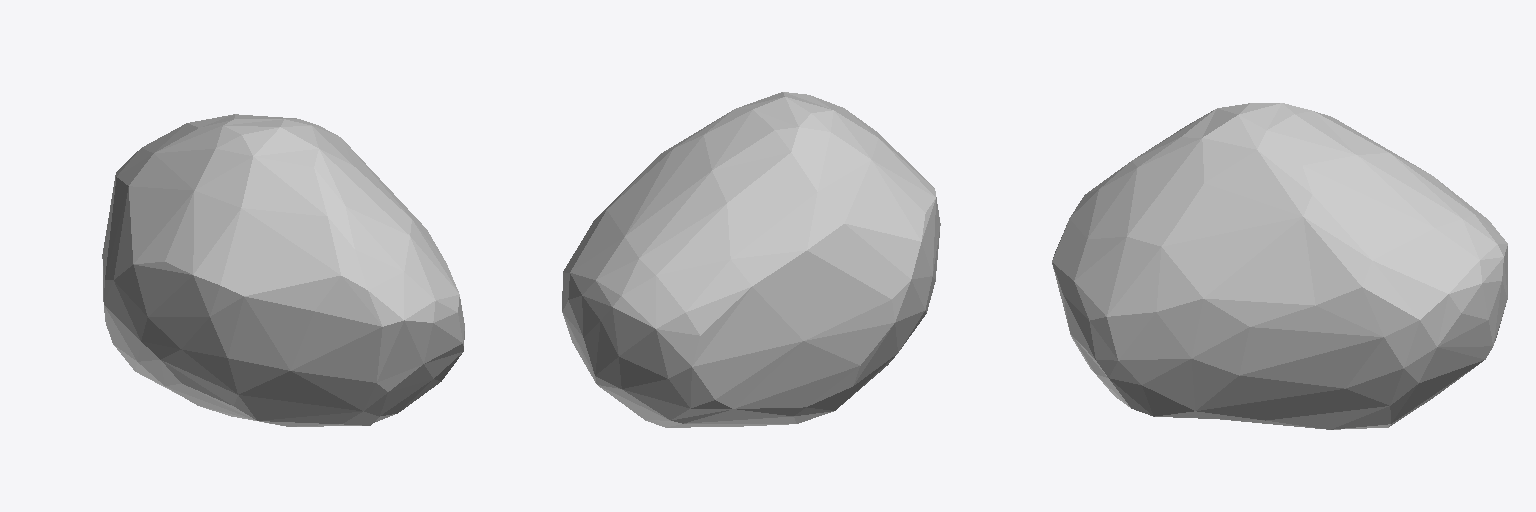
File: Rock1.obj
3 renders of one model, left to right at view 1: azimuth 30°, elevation 25°; view 2: azimuth 150°, elevation 25°; view 3: azimuth 270°, elevation 25°, orthographic.
Parts seen in each view (by area): view 1: Rocks.008_rock.009; view 2: Rocks.008_rock.009; view 3: Rocks.008_rock.009.
Part boxes in pixels (left/top/right/bottom): Rocks.008_rock.009: left=102, top=114, right=464, bottom=426; Rocks.008_rock.009: left=562, top=92, right=940, bottom=427; Rocks.008_rock.009: left=1052, top=103, right=1507, bottom=429.
Bounding box in the file's own units: 0.1509 × 0.1445 × 0.2087.